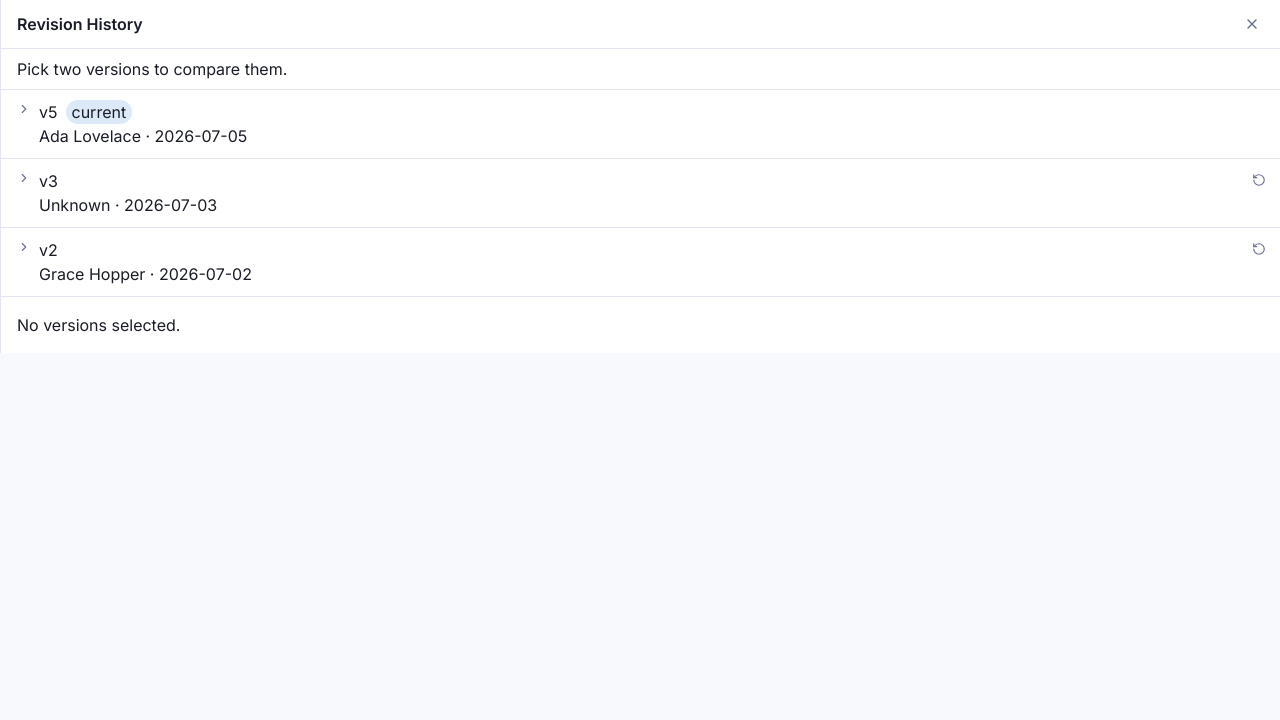
Test: restoring › sends any other failure through friendlyErrorMessage
Step 1. Click the button named "Restore version 2" → (1259, 249), box x1=1246 y1=236 x2=1272 y2=262
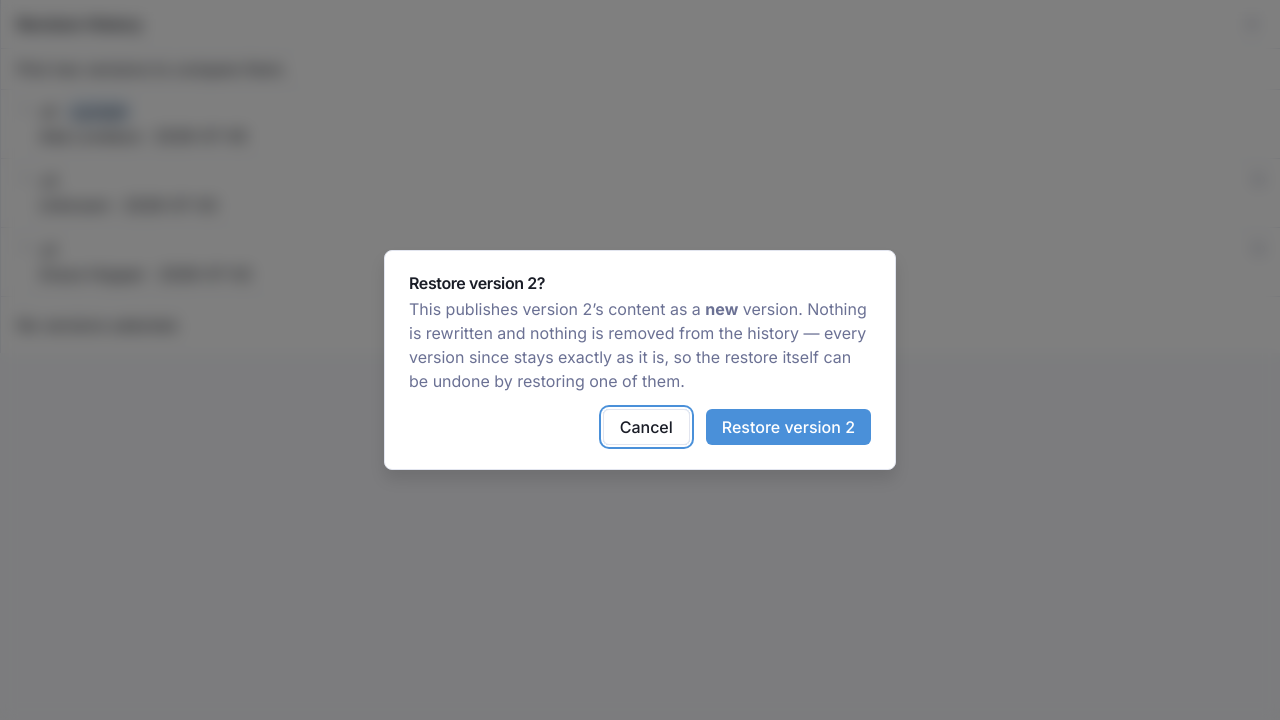
Step 2. Click the button with test id "codex-restore-confirm" → (788, 427), box x1=706 y1=409 x2=871 y2=445
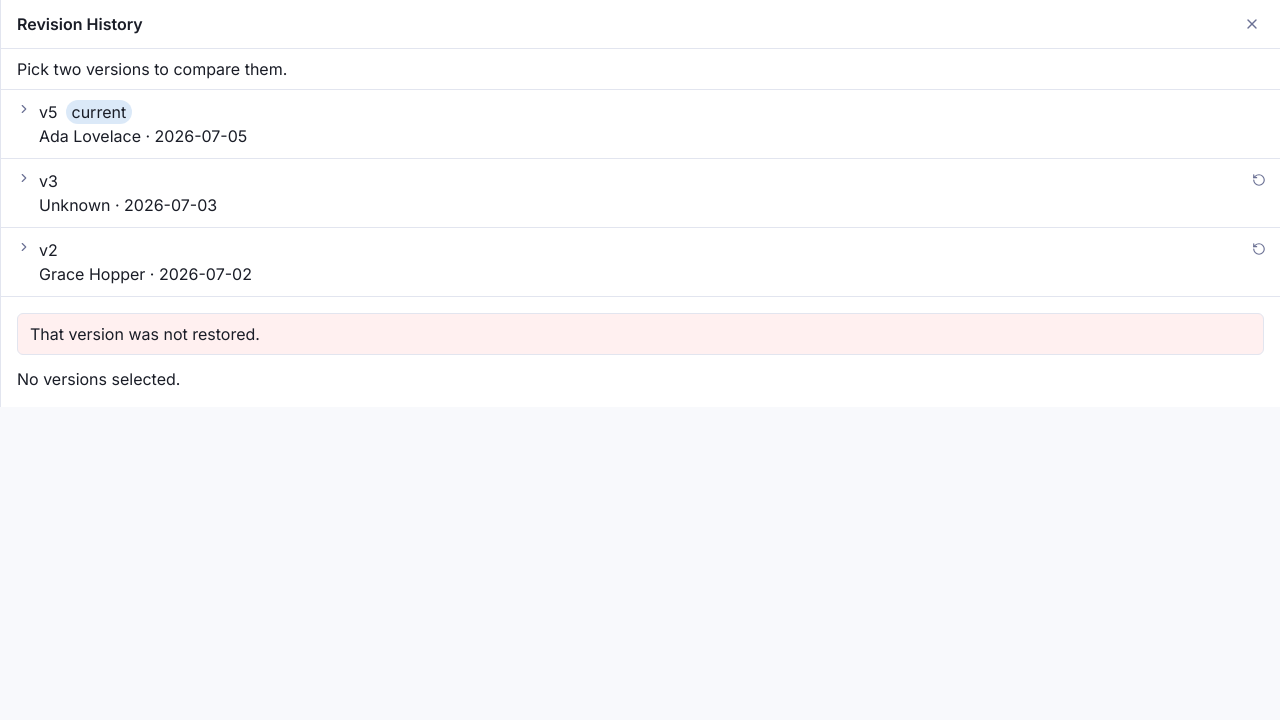
Expected: the message with test id "codex-restore-error" does not show "socket hang up", x1=17 y1=313 x2=1264 y2=355
Expected: the message with test id "codex-restore-error" reads "That version was not restored.", x1=30 y1=324 x2=260 y2=344
